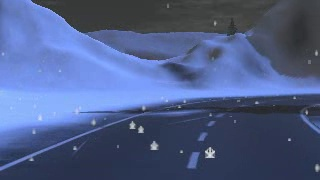Lane: (0, 93, 319, 179)
